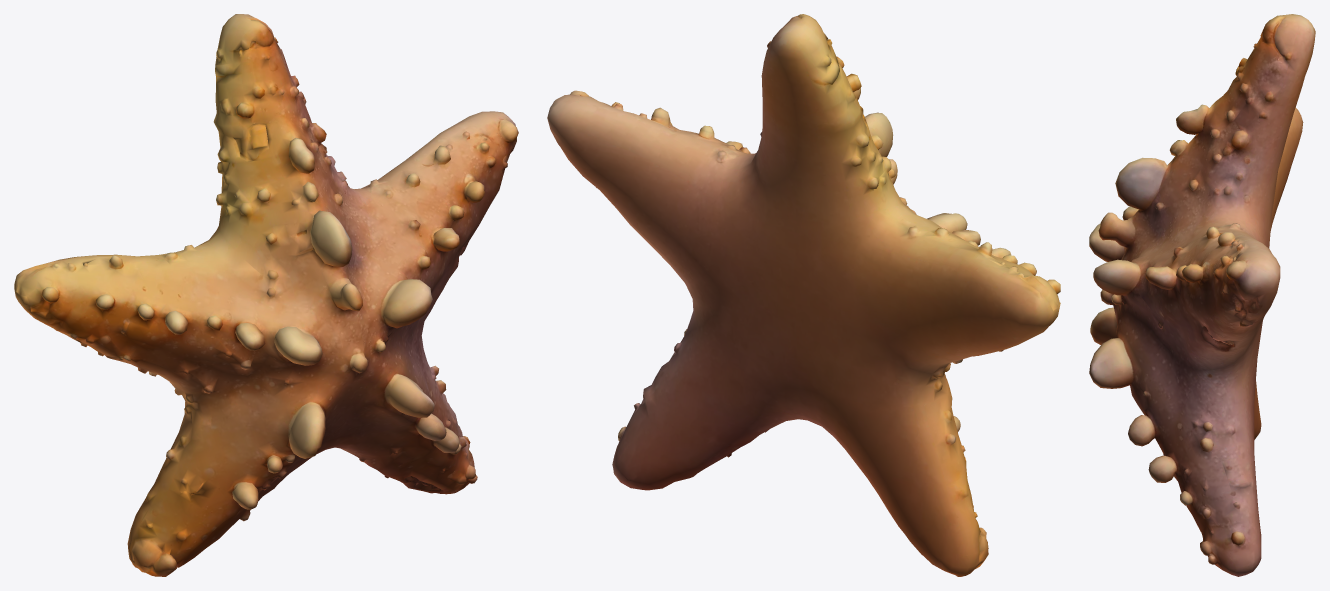
The model's file is starfish.glb.
3 renders of one model, left to right at view 1: azimuth 30°, elevation 25°; view 2: azimuth 150°, elevation 25°; view 3: azimuth 270°, elevation 25°, orthographic. The views are drawn at different scales.
Parts seen in each view (by area): view 1: tripo_node_0a3eca4b-87bf-479d-af76-957202169f5b; view 2: tripo_node_0a3eca4b-87bf-479d-af76-957202169f5b; view 3: tripo_node_0a3eca4b-87bf-479d-af76-957202169f5b.
Boxes of the visible parts, x1,y1,x2,y2 form: tripo_node_0a3eca4b-87bf-479d-af76-957202169f5b: (14,14,518,576); tripo_node_0a3eca4b-87bf-479d-af76-957202169f5b: (547,14,1060,576); tripo_node_0a3eca4b-87bf-479d-af76-957202169f5b: (1089,14,1315,576).
Bounding box in the file's own units: 0.9768 × 0.9768 × 0.4148.
1 material, 1 textured.
